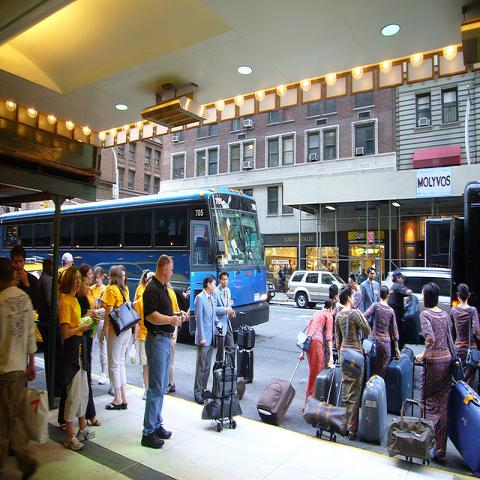bus: (0, 192, 272, 339)
car: (398, 266, 452, 315), (286, 270, 349, 309), (266, 278, 276, 305), (381, 272, 394, 290)
